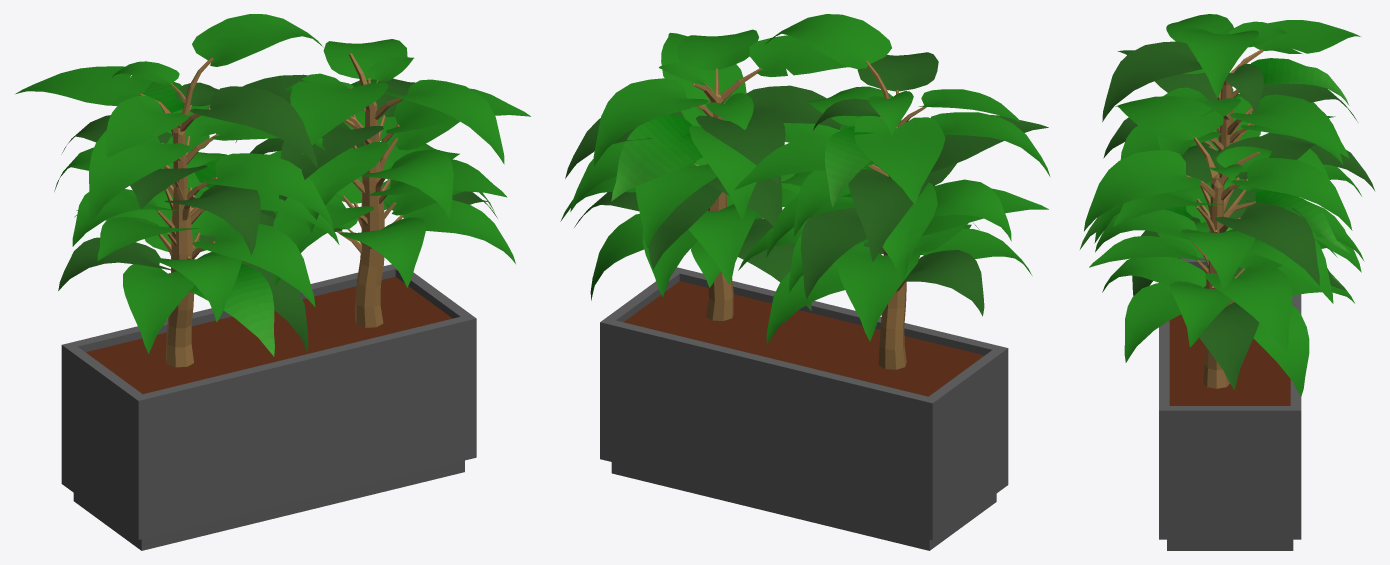
The model's file is planter.glb.
3 views of the same model, side by side, from view 1: azimuth 30°, elevation 25°; view 2: azimuth 150°, elevation 25°; view 3: azimuth 270°, elevation 25° (orthographic). The views are drawn at different scales.
Visible parts, largest first — view 1: 17.10.Model; view 2: 17.10.Model; view 3: 17.10.Model.
Boxes of the visible parts, bbox=[...] form: 17.10.Model: bbox=[15, 14, 530, 550]; 17.10.Model: bbox=[560, 14, 1050, 550]; 17.10.Model: bbox=[1080, 14, 1375, 550].
Size of the model in its own units: 1.63 by 1.63 by 1.01.
Materials: 1 (1 with a texture image).
